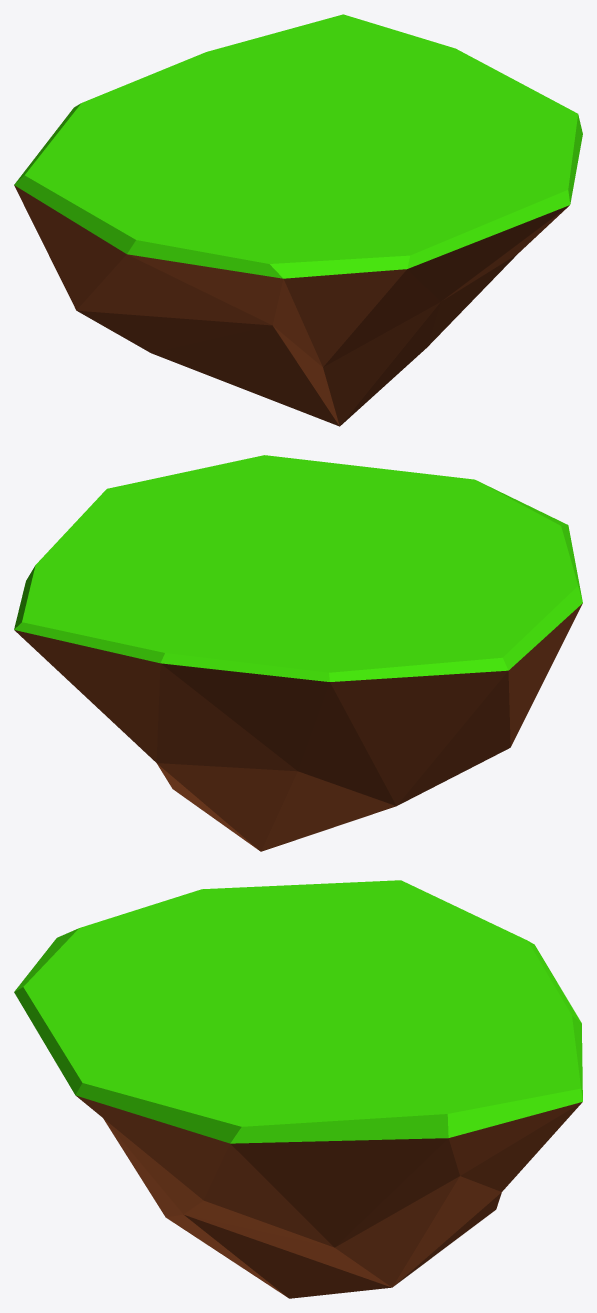
Rendered from SmallestHoverWorld.fbx.
3 renders of one model, top to bottom at view 1: azimuth 30°, elevation 25°; view 2: azimuth 150°, elevation 25°; view 3: azimuth 270°, elevation 25°, orthographic. The views are drawn at different scales.
Parts seen in each view (by area): view 1: Icosphere; view 2: Icosphere; view 3: Icosphere.
Part boxes in pixels (left/top/right/bottom): Icosphere: left=14, top=14, right=582, bottom=426; Icosphere: left=14, top=455, right=582, bottom=851; Icosphere: left=14, top=880, right=582, bottom=1298.
Bounding box in the file's own units: 865 × 418 × 829.
